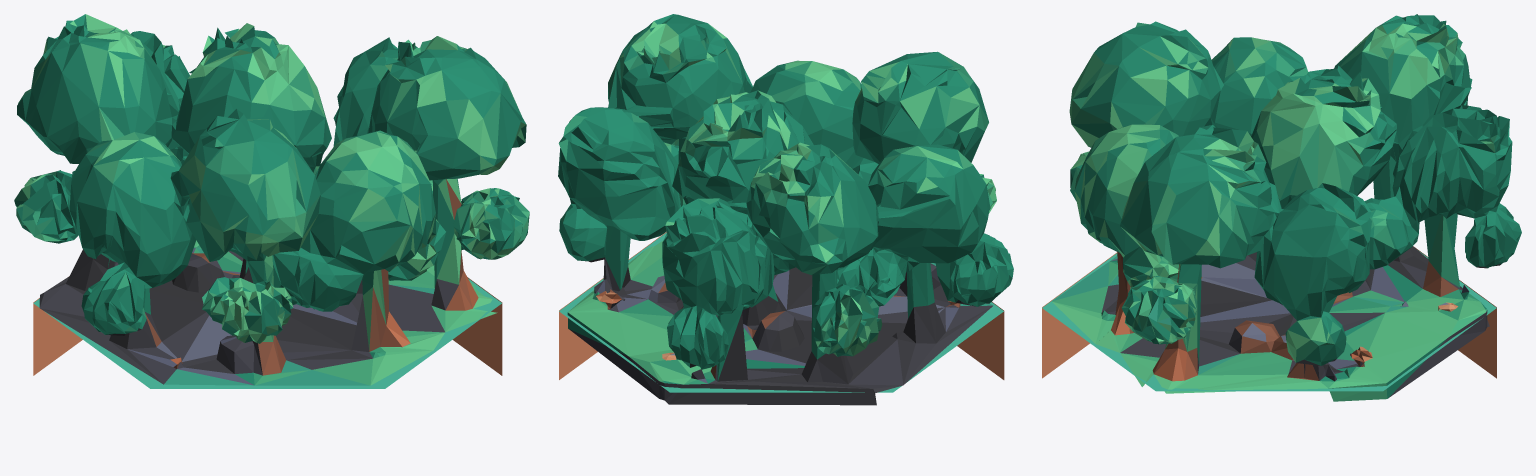
Rendered from elven-forest-2.glb.
3 views of the same model, side by side, from view 1: azimuth 30°, elevation 25°; view 2: azimuth 150°, elevation 25°; view 3: azimuth 270°, elevation 25° (orthographic). The views are drawn at different scales.
Parts seen in each view (by area): view 1: world, hexBase; view 2: world, hexBase; view 3: world, hexBase.
Part boxes in pixels (left/top/right/bottom): world: left=14, top=14, right=529, bottom=385; hexBase: left=33, top=277, right=502, bottom=388; world: left=558, top=14, right=1013, bottom=405; hexBase: left=559, top=232, right=1004, bottom=392; world: left=1052, top=14, right=1521, bottom=401; hexBase: left=1042, top=246, right=1496, bottom=391.
Size of the model in its own units: 1.19 by 0.8629 by 1.22.
Materials: 3 (3 with a texture image).
